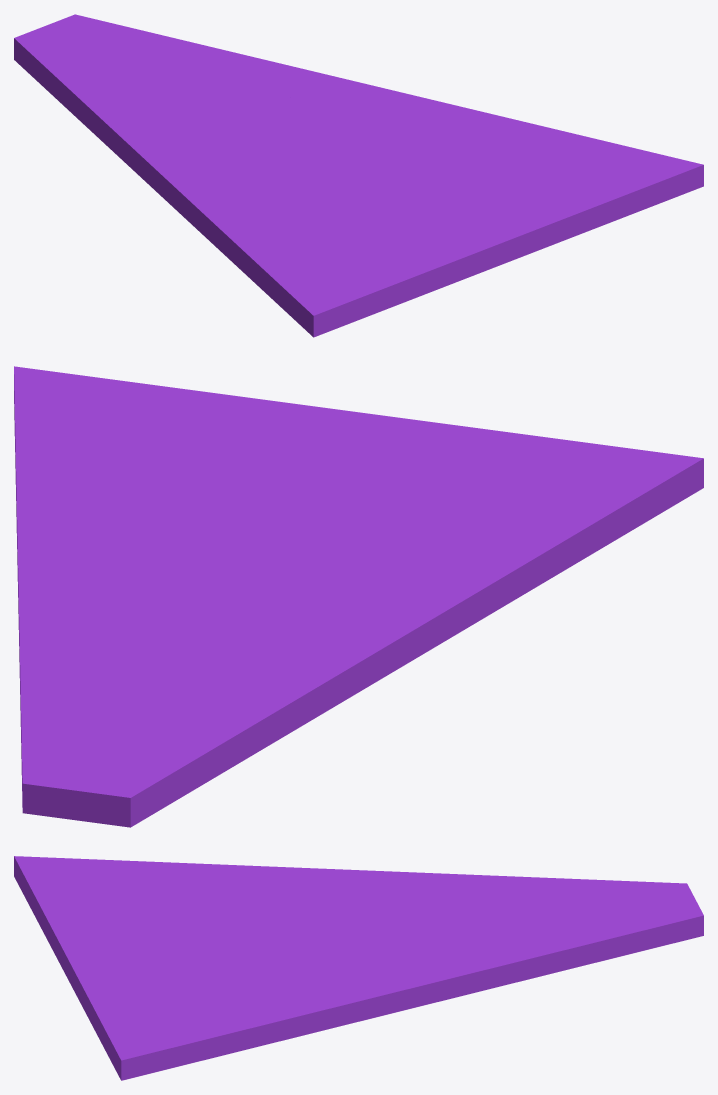
Rendered from StairsStep_13_chunks.fbx.
The picture shows the model from 3 angles, top to bottom: view 1: azimuth 30°, elevation 25°; view 2: azimuth 150°, elevation 25°; view 3: azimuth 270°, elevation 25°; orthographic projection. The views are drawn at different scales.
Parts seen in each view (by area): view 1: StairsStep_13_3, StairsStep_13_1, StairsStep_13_0; view 2: StairsStep_13_3, StairsStep_13_1, StairsStep_13_0; view 3: StairsStep_13_1, StairsStep_13_3, StairsStep_13_0.
Boxes of the visible parts, bbox=[...] form: StairsStep_13_3: bbox=[133, 131, 523, 337]; StairsStep_13_1: bbox=[274, 69, 703, 249]; StairsStep_13_0: bbox=[14, 14, 302, 173]; StairsStep_13_3: bbox=[214, 409, 703, 687]; StairsStep_13_1: bbox=[14, 366, 332, 645]; StairsStep_13_0: bbox=[19, 604, 366, 827]; StairsStep_13_1: bbox=[71, 929, 492, 1080]; StairsStep_13_3: bbox=[14, 856, 418, 969]; StairsStep_13_0: bbox=[386, 872, 703, 989].
Bounding box in the file's own units: 387 × 17.94 × 552.
